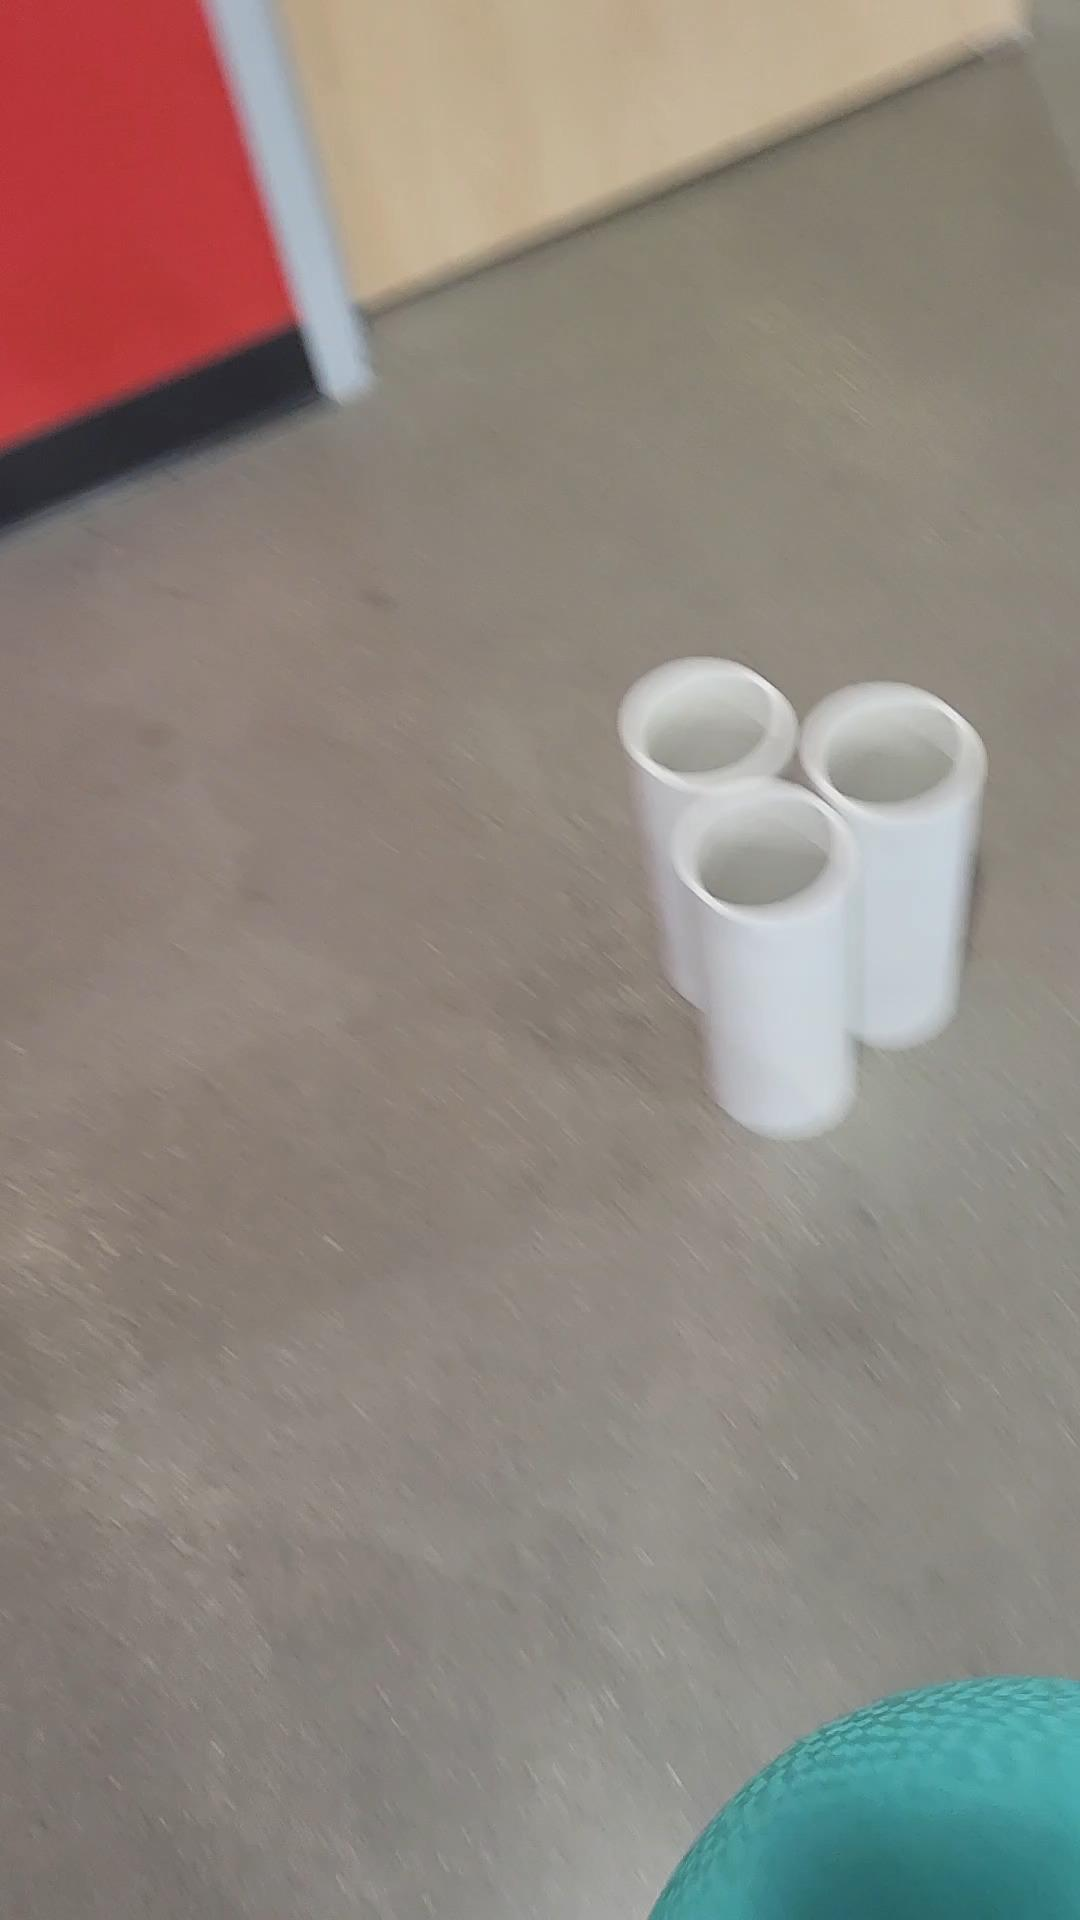algae: (646, 1689, 1080, 1905)
coral: (680, 766, 839, 1145), (798, 684, 967, 1036), (612, 665, 790, 832)
